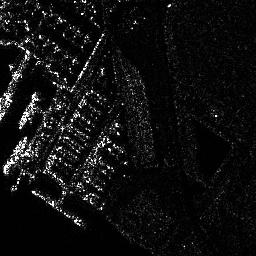ship: (3, 135, 27, 173), (19, 90, 40, 129)
